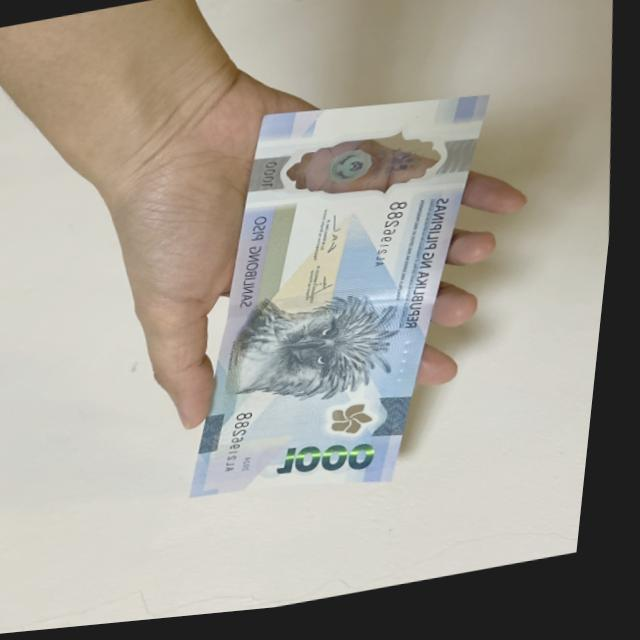clear_window: (266, 125, 470, 216)
eagle: (216, 288, 405, 423)
sampaguita: (329, 405, 395, 447)
serial_number: (365, 195, 427, 283), (217, 402, 271, 487)
